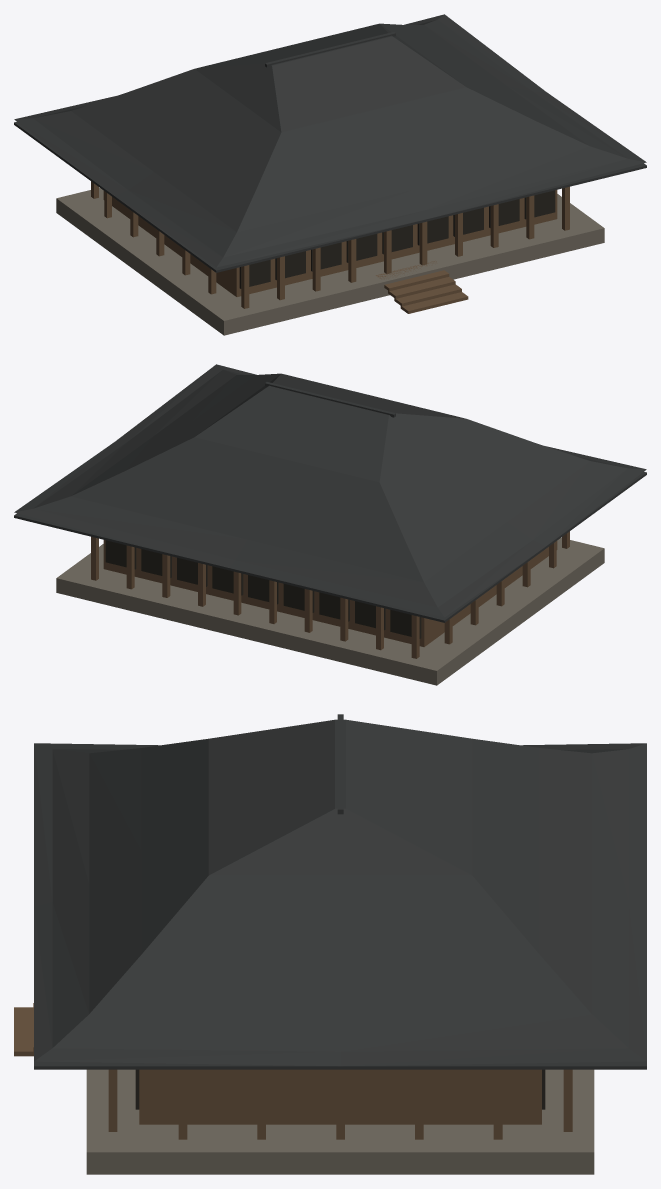
Rendered from shishinden.glb.
3 views of the same model, one above another, from view 1: azimuth 30°, elevation 25°; view 2: azimuth 150°, elevation 25°; view 3: azimuth 270°, elevation 25° (orthographic). The views are drawn at different scales.
Size of the model in its own units: 43 by 17.14 by 36.15.
